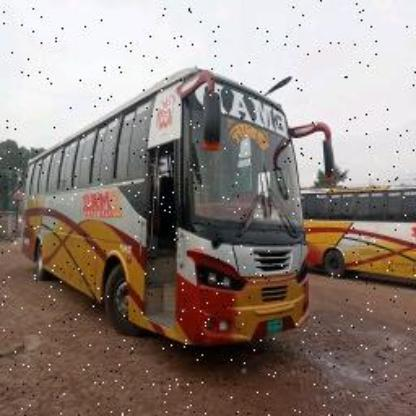bus: (20, 63, 334, 349), (307, 182, 415, 289)
